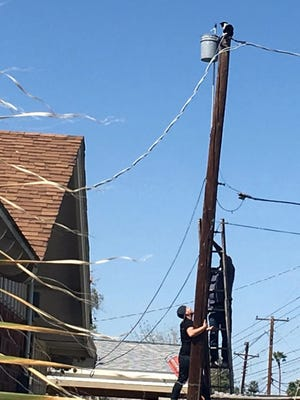utility_pole: (190, 12, 244, 114), (252, 309, 291, 341)
